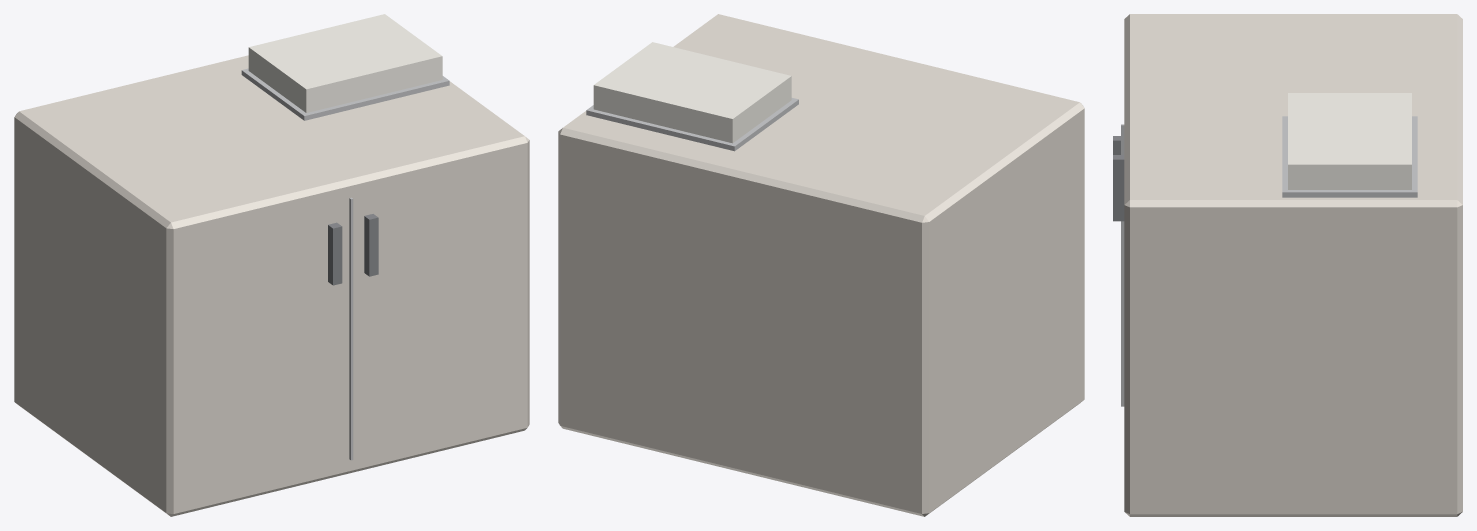
The model's file is printer_station.glb.
3 views of the same model, side by side, from view 1: azimuth 30°, elevation 25°; view 2: azimuth 150°, elevation 25°; view 3: azimuth 270°, elevation 25° (orthographic). The views are drawn at different scales.
Visible parts, largest first — view 1: printer_station; view 2: printer_station; view 3: printer_station.
Boxes of the visible parts, <box> form: printer_station: <box>14,14,529,516</box>; printer_station: <box>558,14,1084,516</box>; printer_station: <box>1113,14,1462,516</box>.
Size of the model in its own units: 0.8 by 0.68 by 0.62.
Materials: 1 (1 with a texture image).
